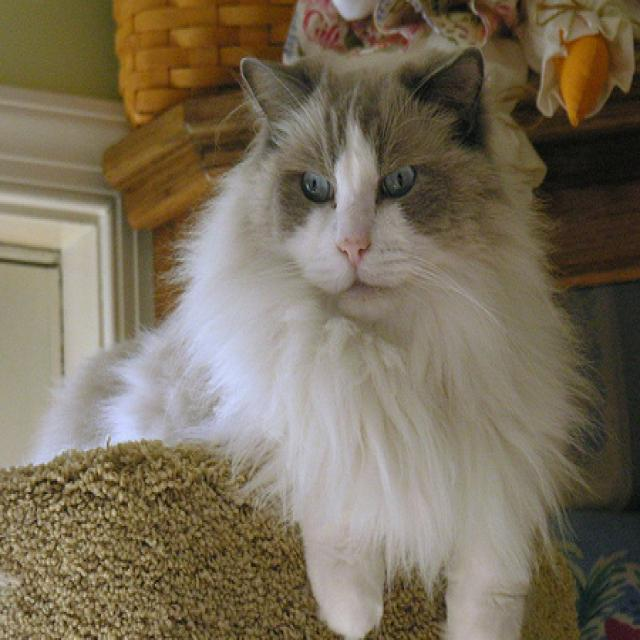Ragdoll: (29, 30, 592, 640)
